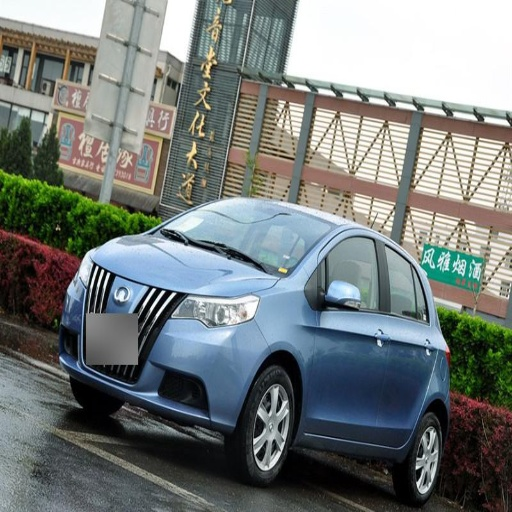front_bumper: (60, 265, 259, 431)
front_glass: (152, 211, 325, 276)
front_left_door: (307, 231, 387, 442)
